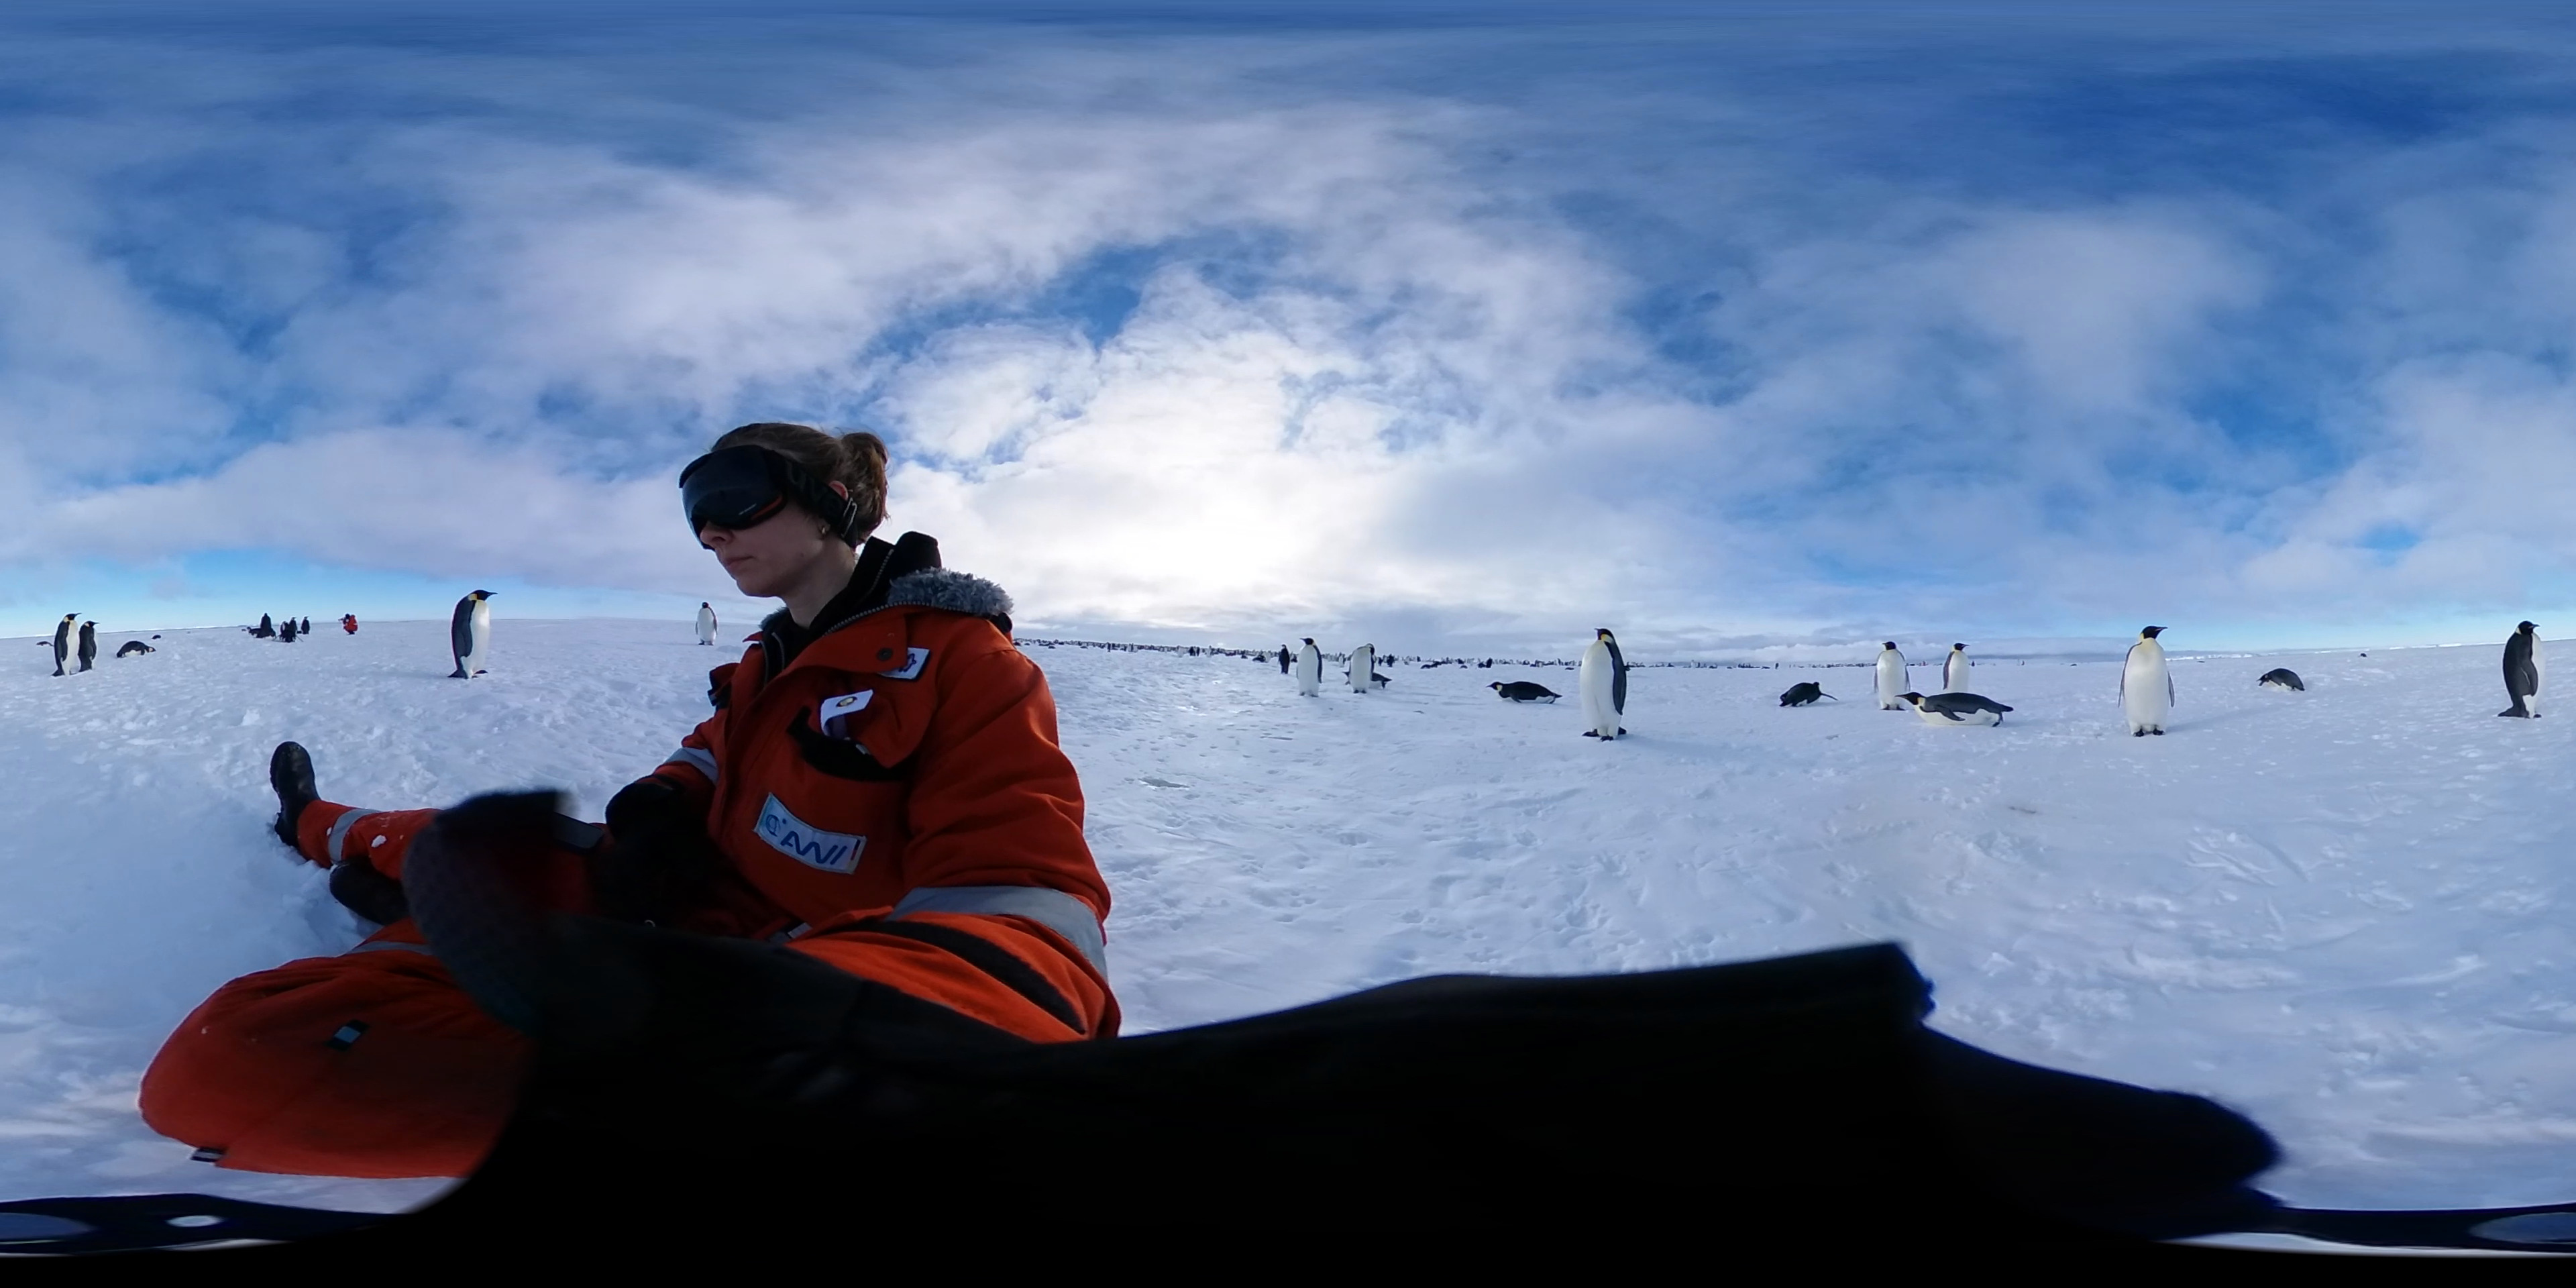adult_standing_penguin: (2114, 621, 2180, 743), (1575, 623, 1636, 746), (2489, 618, 2550, 724), (450, 585, 496, 680), (1868, 641, 1917, 710), (51, 611, 84, 677), (1940, 642, 1975, 703), (1345, 641, 1377, 698), (1298, 637, 1324, 698), (692, 600, 721, 649), (80, 619, 102, 670), (1278, 641, 1291, 677), (286, 616, 301, 637), (258, 611, 269, 634), (301, 614, 310, 637)
adult_toboggan_penguin: (1888, 688, 2017, 729), (1485, 677, 1562, 708), (1776, 677, 1840, 711), (2256, 667, 2310, 693), (1339, 670, 1396, 690), (118, 639, 158, 659), (243, 624, 278, 641), (279, 629, 301, 646)
researcher: (136, 406, 1056, 1288), (338, 611, 361, 634)
